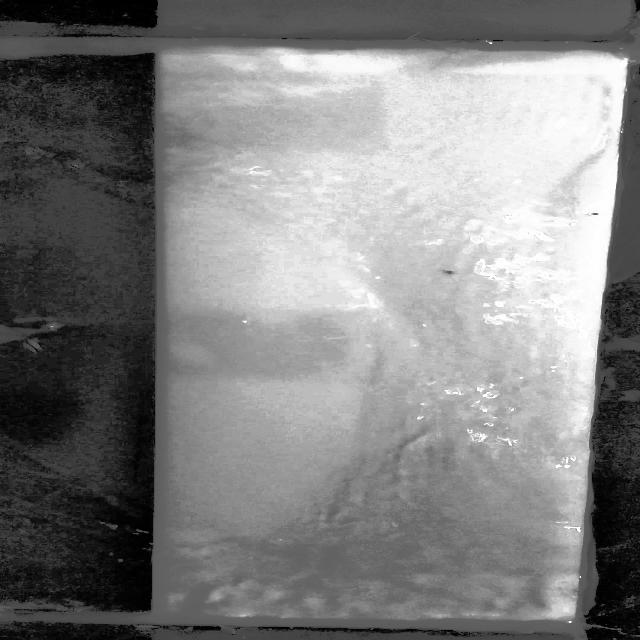shrimp: (436, 266, 456, 279), (587, 210, 604, 219)
